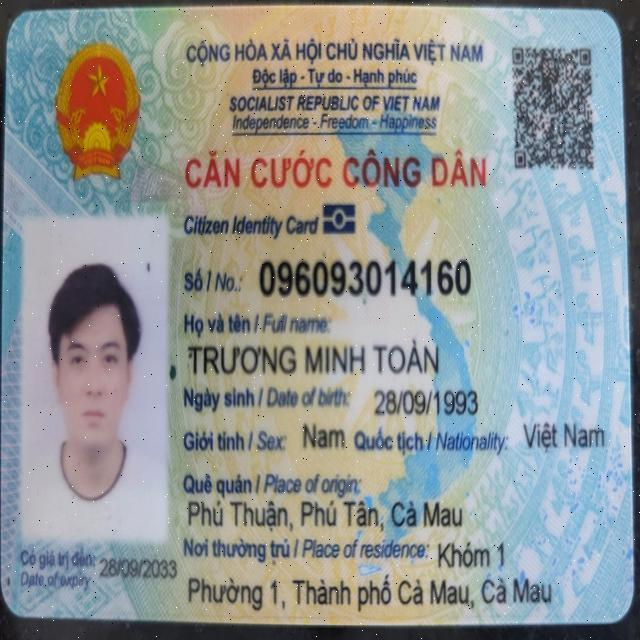current_place: (186, 564, 555, 611), (434, 537, 509, 572)
dob: (370, 383, 485, 425)
expire_date: (97, 550, 178, 583)
gender: (299, 414, 348, 456)
id: (259, 249, 473, 302)
name: (180, 341, 444, 381)
nationality: (520, 415, 608, 452)
origin_place: (182, 495, 473, 533)
